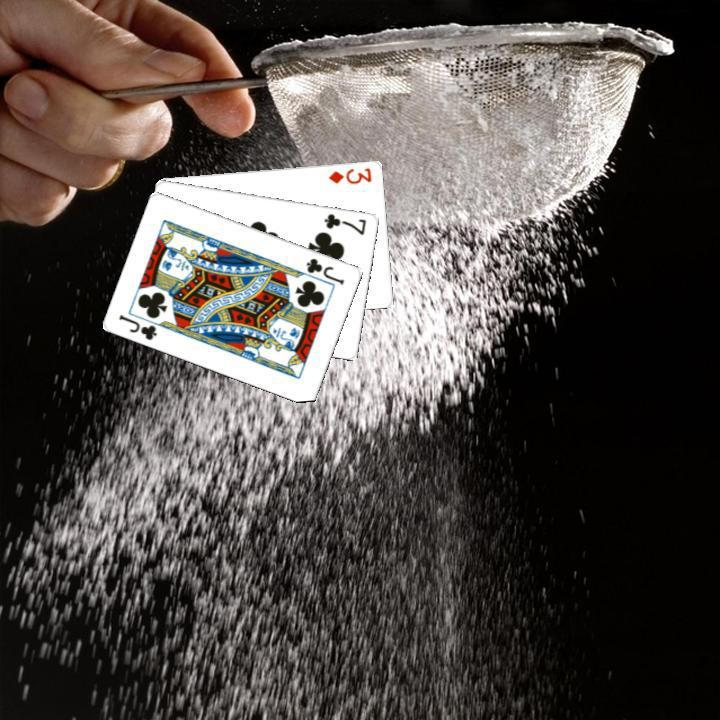3: (324, 163, 374, 186)
7: (320, 209, 369, 237)
J: (302, 253, 347, 287), (115, 309, 159, 342)
